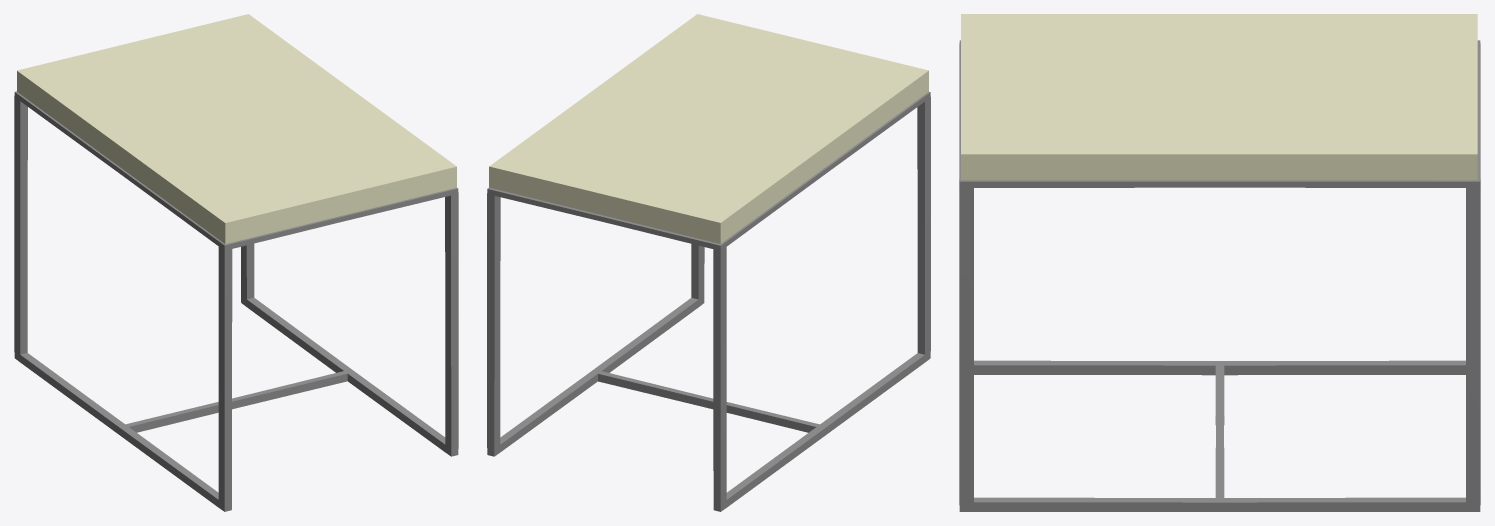
Rendered from TeaTable02A.FBX.
The picture shows the model from 3 angles, left to right: view 1: azimuth 30°, elevation 25°; view 2: azimuth 150°, elevation 25°; view 3: azimuth 270°, elevation 25°; orthographic projection. The views are drawn at different scales.
Visible parts, largest first — view 1: TeaTable02A; view 2: TeaTable02A; view 3: TeaTable02A.
Boxes of the visible parts, bbox=[...] form: TeaTable02A: bbox=[14, 14, 458, 511]; TeaTable02A: bbox=[487, 14, 930, 511]; TeaTable02A: bbox=[959, 14, 1480, 511].
Bounding box in the file's own units: 44.92 × 69.92 × 52.89.
